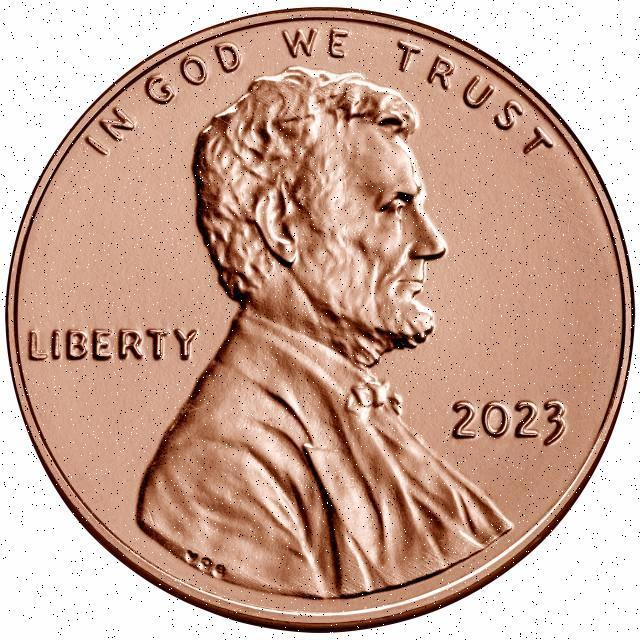Circle: (6, 8, 634, 634)
